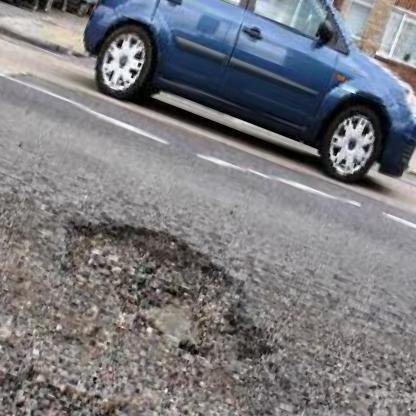pothole: (35, 192, 303, 387)
